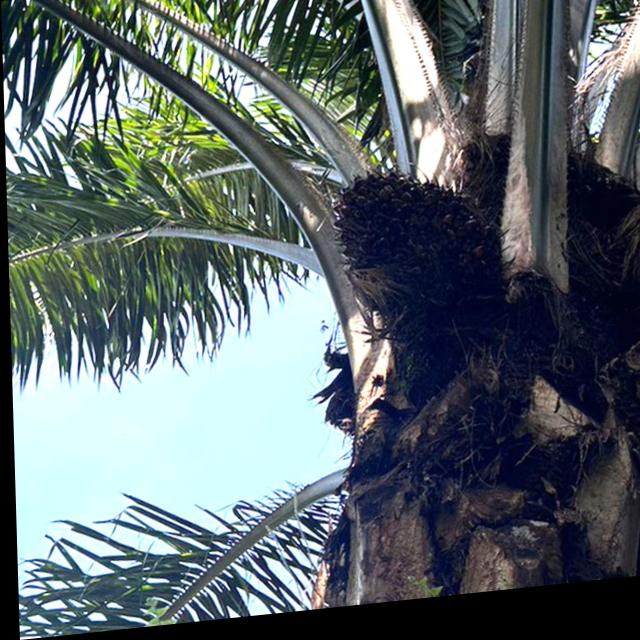ripe: (316, 147, 521, 361)
